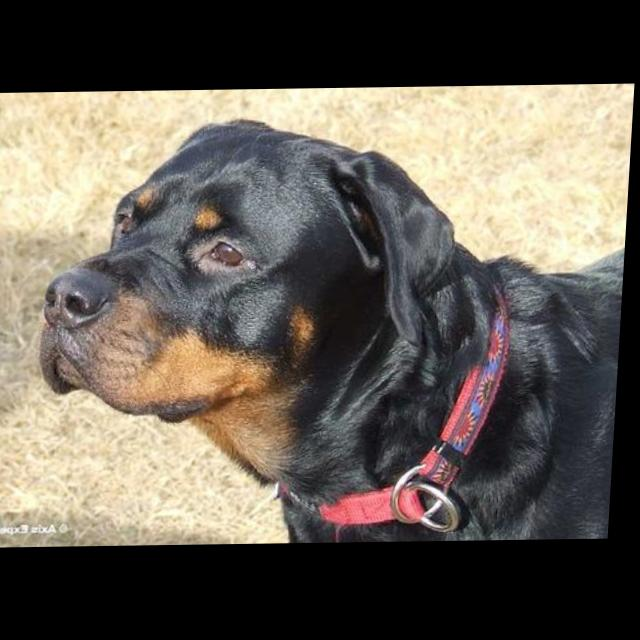rottweiler: (36, 113, 635, 547)
